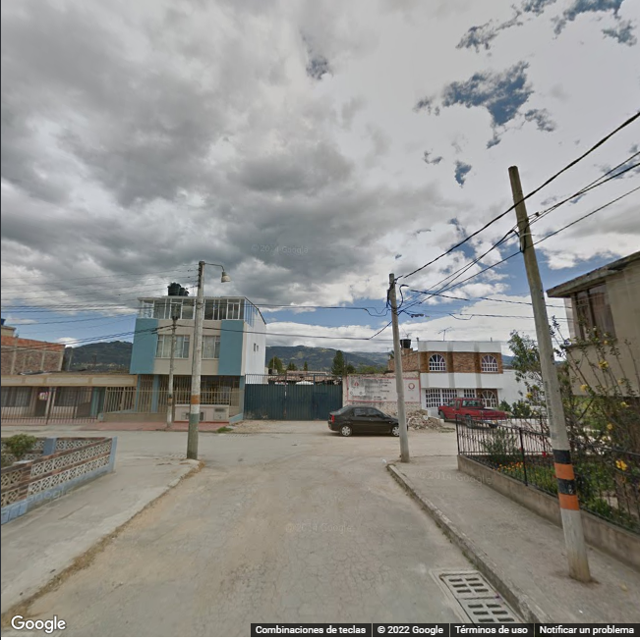D20: (192, 548, 276, 636), (318, 521, 384, 594)
